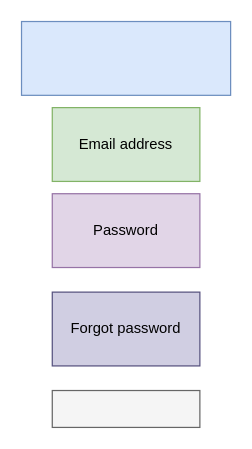
Image size: 252x449. Some labels were removed from this diagram. Here are the shapes that lost their labels. From the top down, the centre of each, then its label:
[125,57]: Login form
[125,408]: Login
